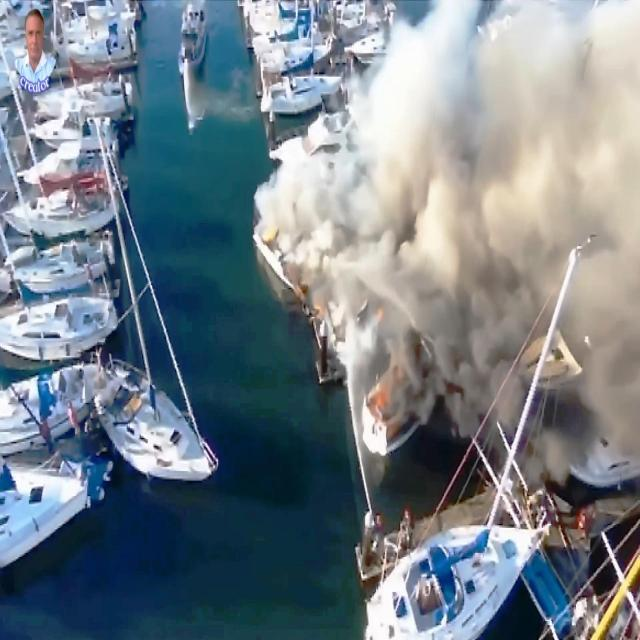Smoke: (260, 0, 640, 462)
